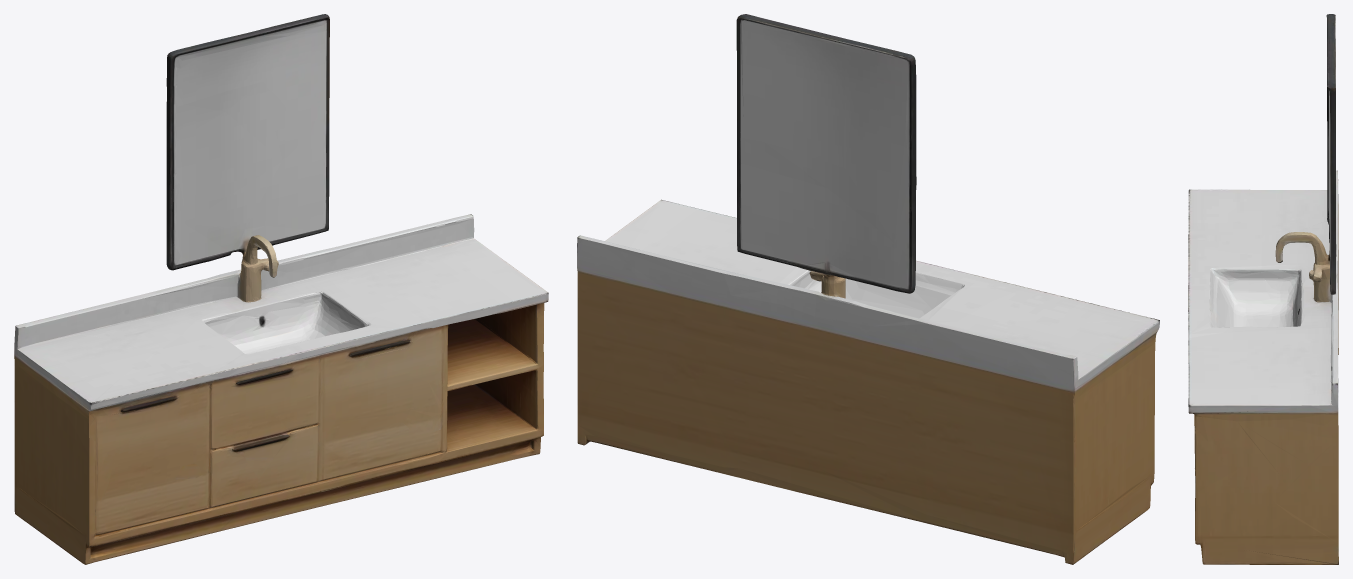
Rendered from bathroom_vanity_mirror.glb.
The picture shows the model from 3 angles, left to right: view 1: azimuth 30°, elevation 25°; view 2: azimuth 150°, elevation 25°; view 3: azimuth 270°, elevation 25°; orthographic projection. The views are drawn at different scales.
Visible parts, largest first — view 1: geometry_0; view 2: geometry_0; view 3: geometry_0.
Boxes of the visible parts, bbox=[...] form: geometry_0: bbox=[14, 14, 548, 564]; geometry_0: bbox=[577, 14, 1159, 564]; geometry_0: bbox=[1188, 14, 1338, 564].
Bounding box in the file's own units: 0.9994 × 0.8902 × 0.2965.
Materials: 1 (1 with a texture image).
